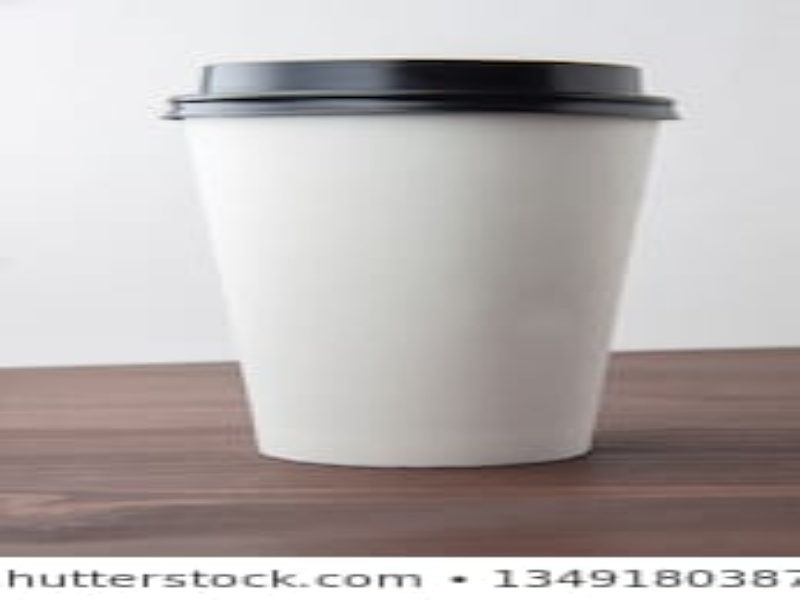coffee-lid: (152, 56, 701, 124)
plastic-cup: (149, 52, 690, 472)
